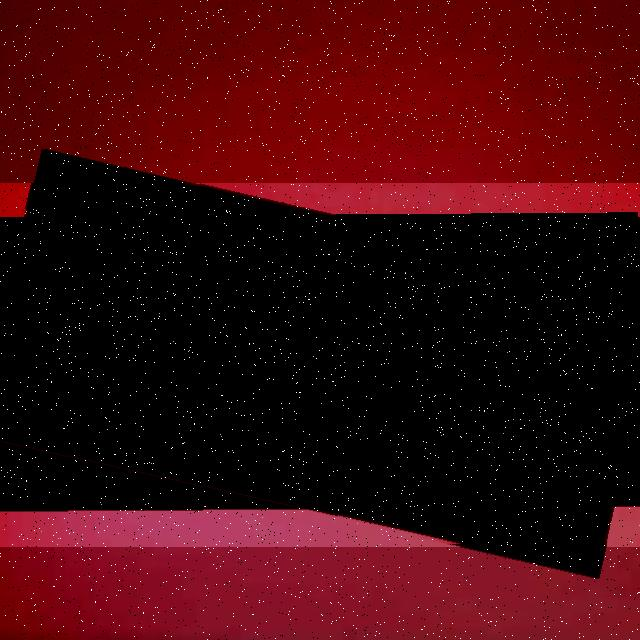lima puluh ribu rupiah: (0, 183, 640, 547)
